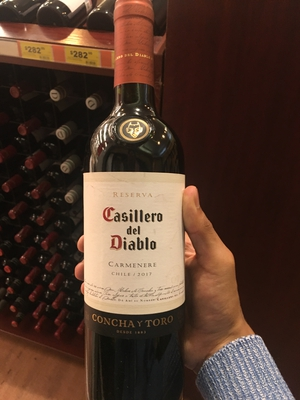casillero del diablo carmenere: (77, 3, 203, 400)
